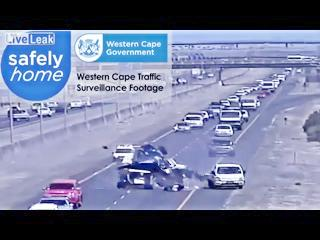Car: (138, 157, 188, 192), (120, 160, 157, 191), (206, 163, 246, 189), (174, 108, 213, 132), (29, 197, 75, 210), (207, 137, 235, 157), (112, 143, 138, 162), (138, 143, 166, 157), (7, 106, 30, 121), (214, 124, 234, 137), (192, 70, 215, 80), (173, 121, 192, 133), (35, 107, 55, 117), (237, 113, 248, 128), (209, 104, 222, 115), (202, 109, 216, 119), (69, 99, 83, 108), (46, 101, 59, 110), (31, 102, 42, 112), (232, 121, 243, 131), (257, 91, 270, 99), (241, 109, 249, 121), (6, 106, 19, 113), (176, 78, 187, 85), (85, 99, 92, 107), (171, 79, 178, 85), (197, 75, 204, 80), (256, 100, 261, 107), (296, 69, 302, 73)
Major Accident: (116, 157, 191, 193)
